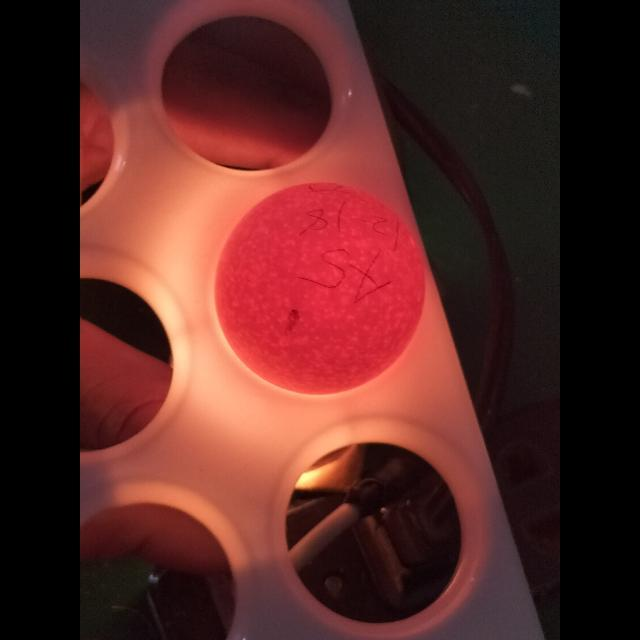Infertile: (215, 178, 423, 382)
